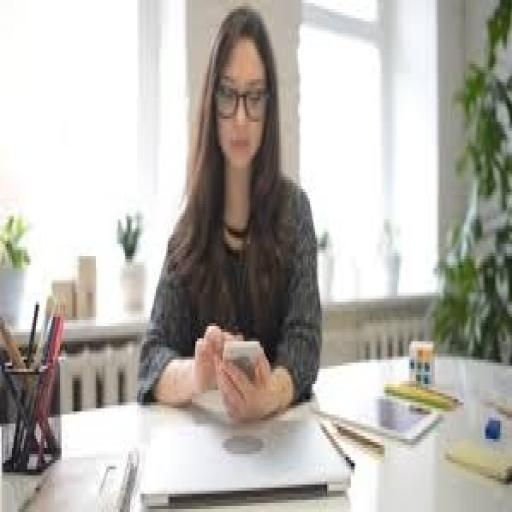texting: (135, 6, 324, 424)
